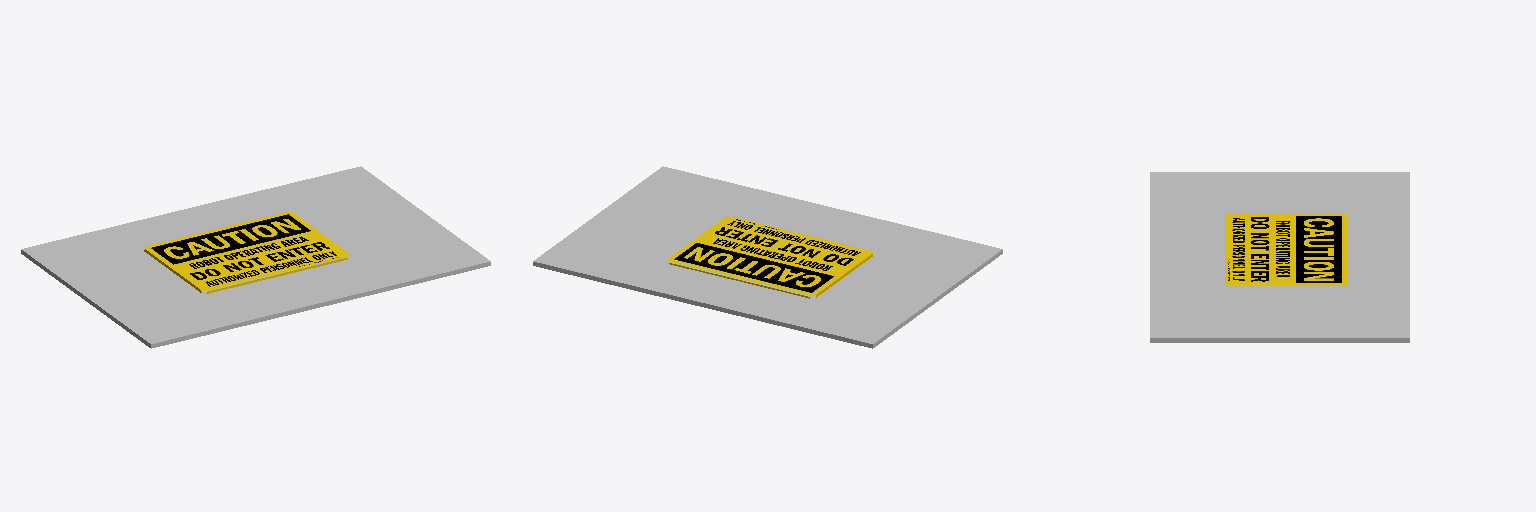
3 renders of one model, left to right at view 1: azimuth 30°, elevation 25°; view 2: azimuth 150°, elevation 25°; view 3: azimuth 270°, elevation 25°, orthographic.
Parts seen in each view (by area): view 1: door_Cube.002, sticker_Cube.001; view 2: door_Cube.002, sticker_Cube.001; view 3: door_Cube.002, sticker_Cube.001.
Boxes of the visible parts, box(x1,y1,x2,y2) form: door_Cube.002: box(21, 166, 490, 348); sticker_Cube.001: box(144, 212, 349, 293); door_Cube.002: box(533, 166, 1002, 348); sticker_Cube.001: box(668, 216, 872, 298); door_Cube.002: box(1150, 172, 1409, 342); sticker_Cube.001: box(1225, 213, 1347, 285).
Bounding box in the file's own units: 0.4 × 0.0084 × 0.265.
2 materials, 1 textured.